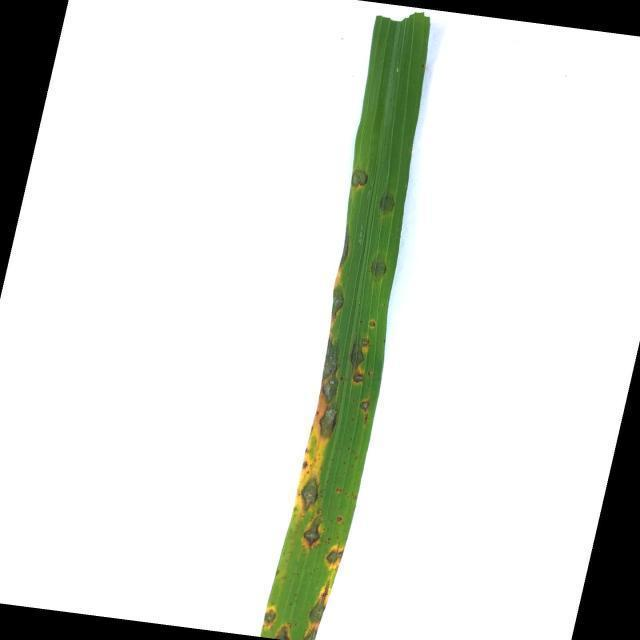Leaf_Blast: (307, 576, 335, 625), (321, 339, 339, 404), (297, 475, 323, 513), (351, 337, 370, 384), (317, 406, 341, 442), (302, 518, 324, 550), (377, 190, 398, 218), (367, 258, 391, 279), (331, 286, 345, 321), (324, 545, 343, 569), (261, 604, 278, 630), (270, 620, 292, 640), (298, 622, 317, 640), (351, 170, 369, 188), (357, 397, 372, 414)
